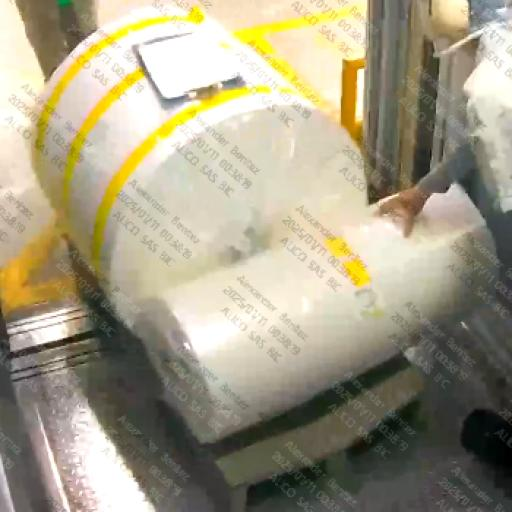Rollos sin amarrar: (70, 98, 435, 488)
